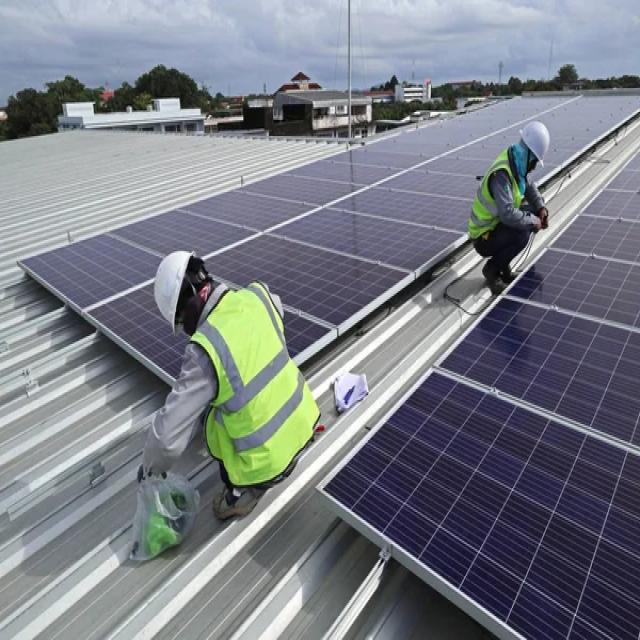clean-solar-panel: (18, 89, 640, 415), (321, 147, 640, 640)
